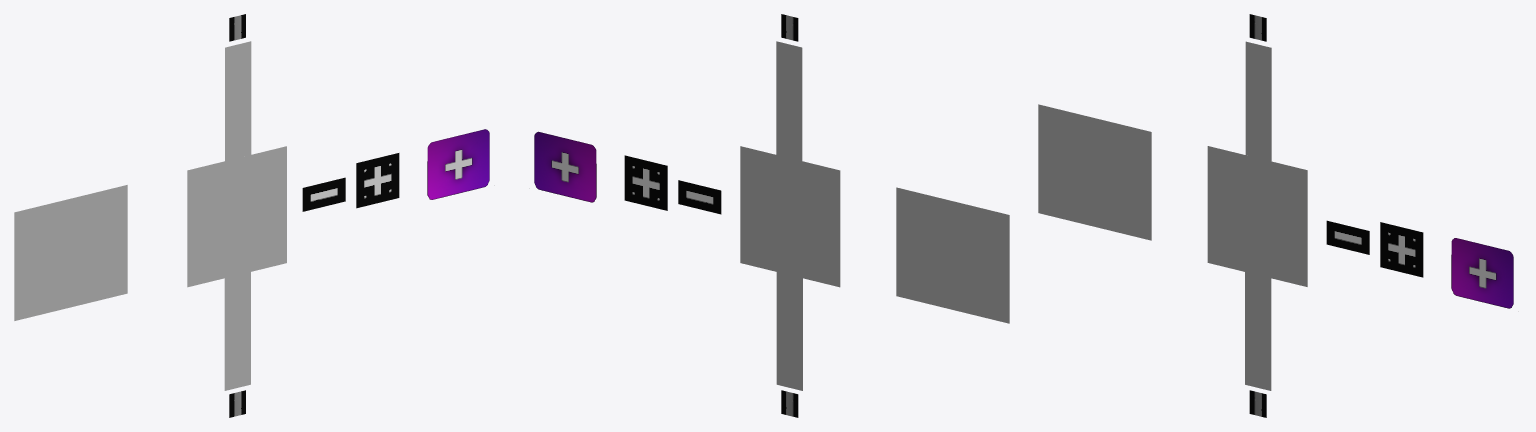
Rendered from Edit_Room_UI_Mesh.FBX.
3 renders of one model, left to right at view 1: azimuth 30°, elevation 25°; view 2: azimuth 150°, elevation 25°; view 3: azimuth 330°, elevation 25°, orthographic.
Visible parts, largest first — view 1: icon_selected_background, cube_slot, line_connector_upper_and_lower (×2), active_slot, plus, minus; view 2: icon_selected_background, cube_slot, line_connector_upper_and_lower (×2), active_slot, plus, minus; view 3: icon_selected_background, cube_slot, line_connector_upper_and_lower (×2), active_slot, plus, minus.
Boxes of the visible parts, x1=… form: icon_selected_background: x1=14, y1=185, x2=127, y2=320; cube_slot: x1=187, y1=146, x2=286, y2=287; line_connector_upper_and_lower (×2): x1=224, y1=41, x2=251, y2=390; active_slot: x1=427, y1=129, x2=489, y2=199; plus: x1=356, y1=153, x2=399, y2=208; minus: x1=302, y1=177, x2=345, y2=211; icon_selected_background: x1=896, y1=187, x2=1009, y2=323; cube_slot: x1=740, y1=146, x2=840, y2=287; line_connector_upper_and_lower (×2): x1=776, y1=41, x2=802, y2=390; active_slot: x1=534, y1=131, x2=596, y2=202; plus: x1=624, y1=155, x2=667, y2=210; minus: x1=678, y1=180, x2=721, y2=214; icon_selected_background: x1=1038, y1=104, x2=1151, y2=240; cube_slot: x1=1207, y1=146, x2=1307, y2=286; line_connector_upper_and_lower (×2): x1=1245, y1=41, x2=1271, y2=390; active_slot: x1=1451, y1=238, x2=1513, y2=308; plus: x1=1380, y1=222, x2=1423, y2=277; minus: x1=1326, y1=220, x2=1369, y2=254.
Size of the model in its own units: 2077 by 1642 by 13.2.
